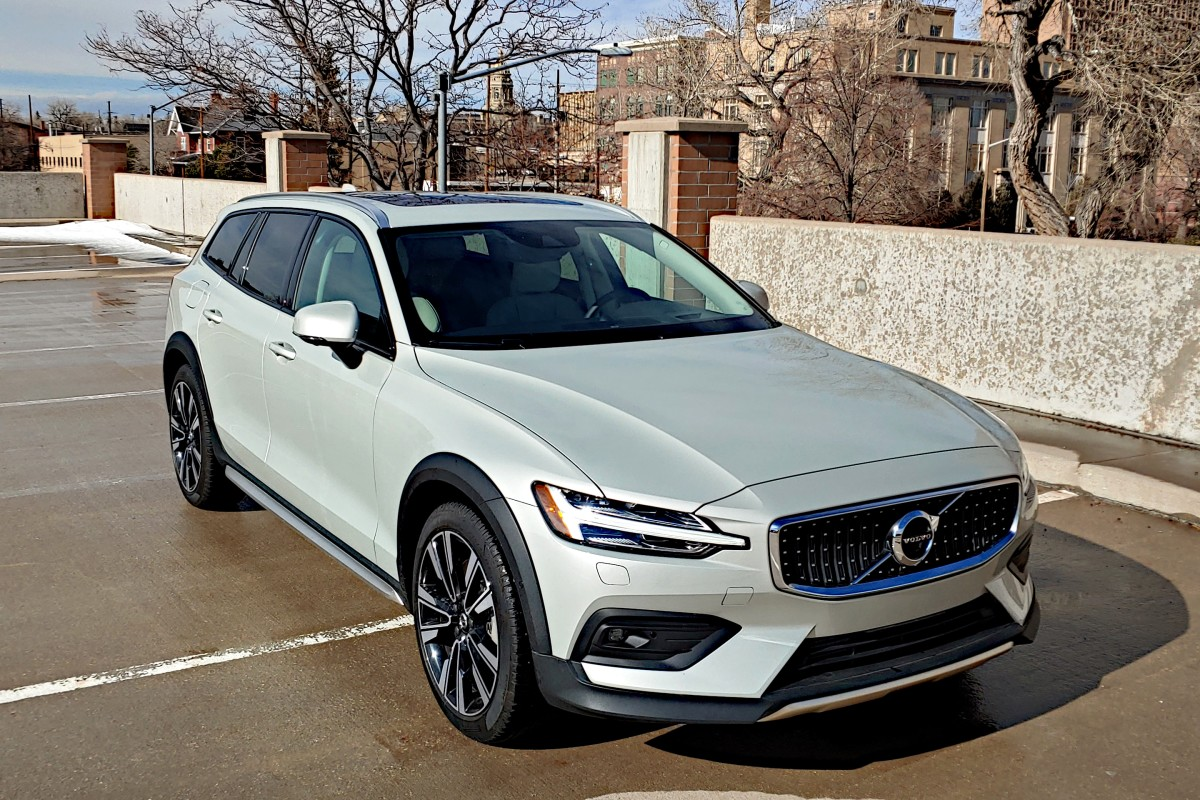car: (166, 188, 1041, 744)
